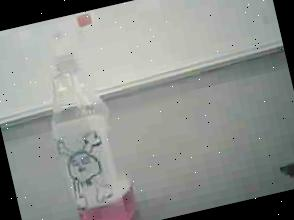hazard: (9, 6, 155, 220)
